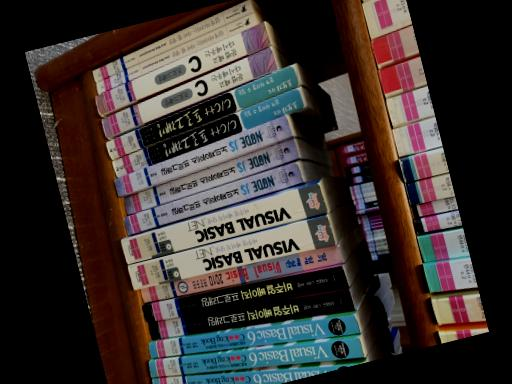book-spine: (105, 65, 299, 160), (111, 87, 305, 178), (119, 184, 326, 264), (94, 22, 270, 115), (101, 47, 276, 138), (127, 216, 335, 290), (112, 116, 291, 197), (122, 138, 298, 216), (91, 0, 252, 83), (121, 163, 302, 236), (94, 13, 255, 95), (139, 245, 343, 303), (140, 266, 347, 323), (146, 289, 354, 339), (147, 315, 359, 358), (147, 338, 363, 377), (151, 366, 350, 384)
